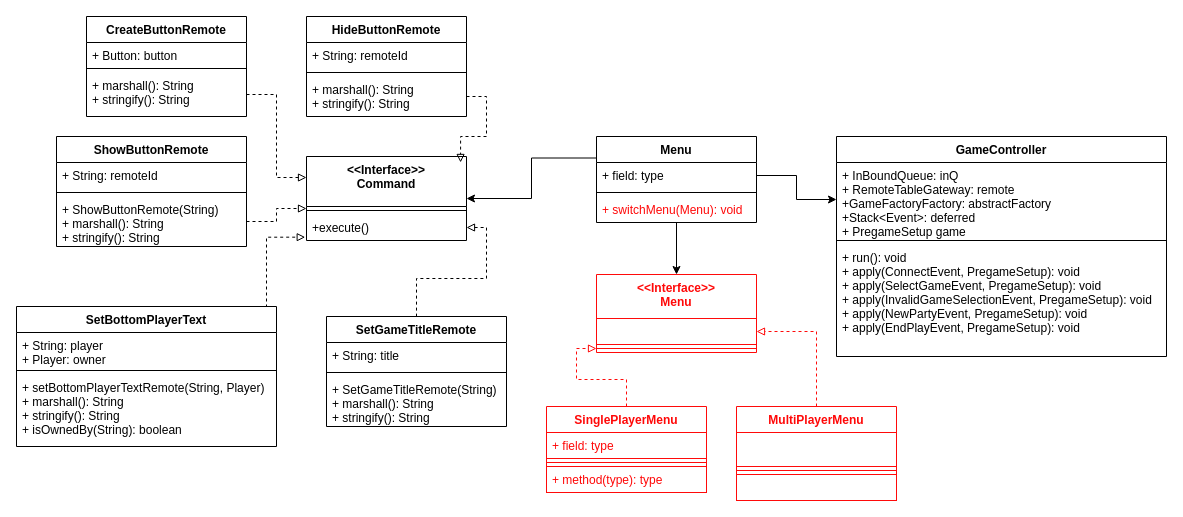
Image size: 1183x517. Some labels were removed from this diagram. The centre of each missing label's shape, as x and y in pixels:
addPlayer(Player): boolean: point (816, 487)
numPlayers: int host: Player: point (816, 449)
startGame(): void: point (676, 331)
